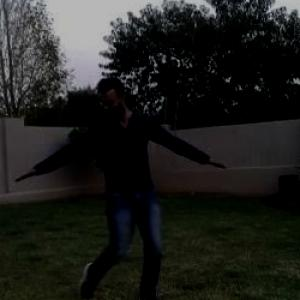land: (13, 84, 202, 292)
